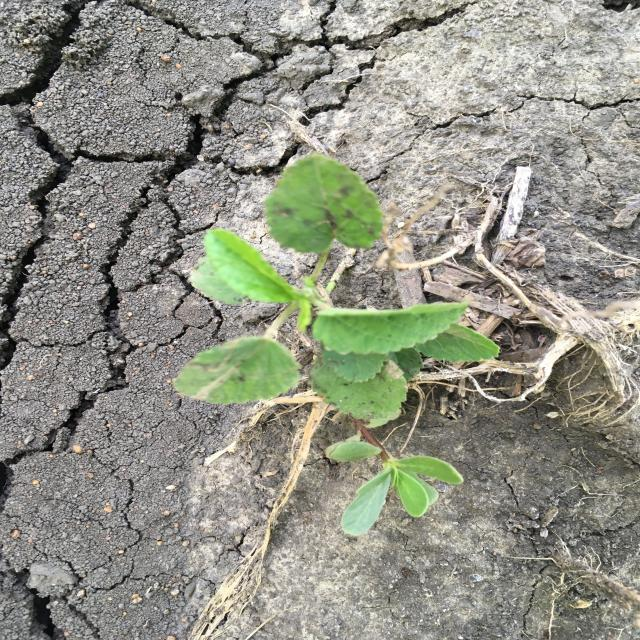PricklySida: (168, 152, 504, 430)
Purslane: (320, 416, 469, 538)
